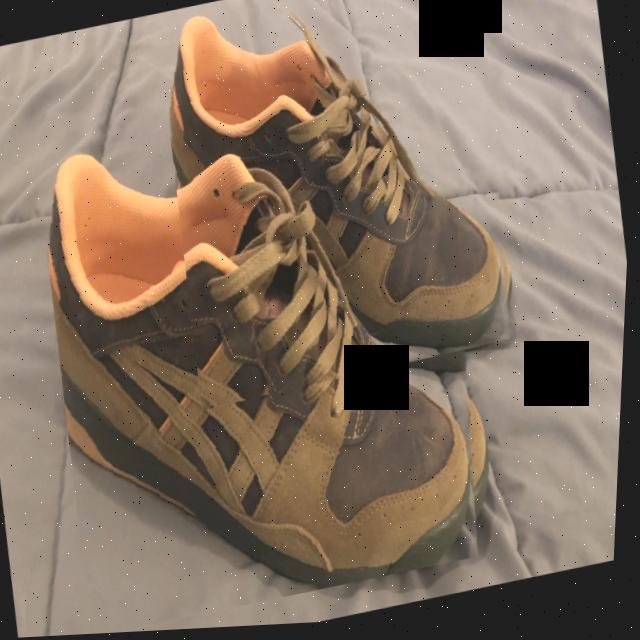shoe: (21, 73, 525, 638), (144, 0, 540, 416)
